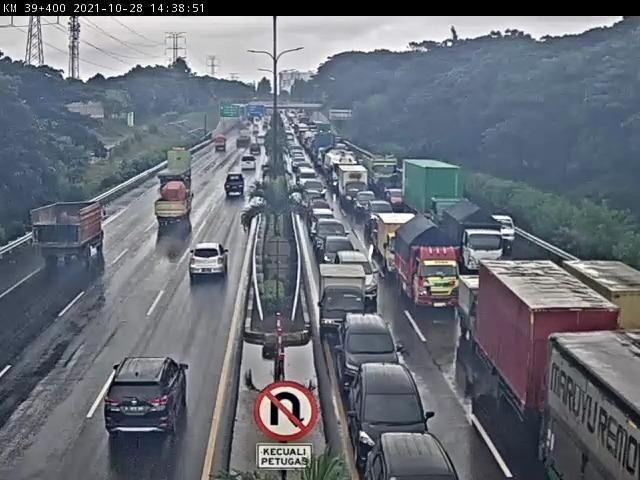Bus: (255, 134, 269, 148)
